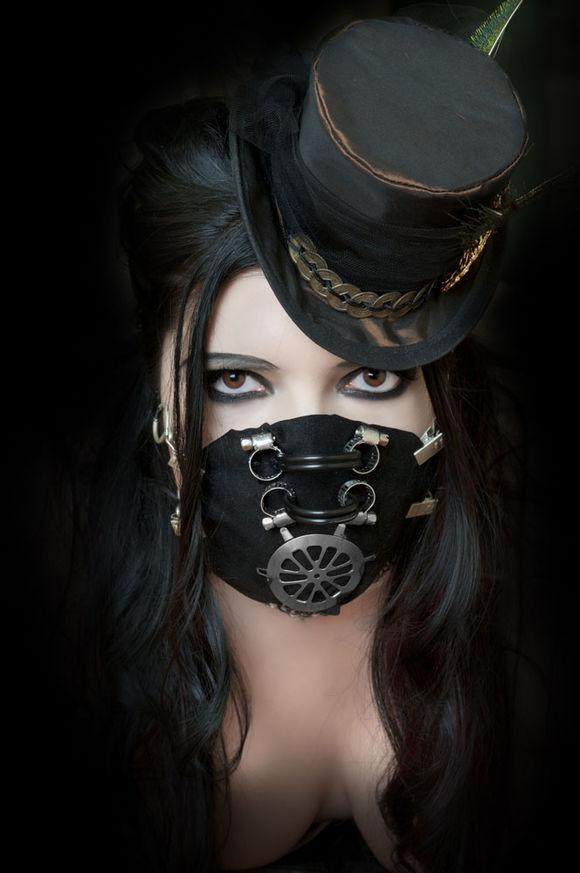OK: (167, 337, 446, 616)
